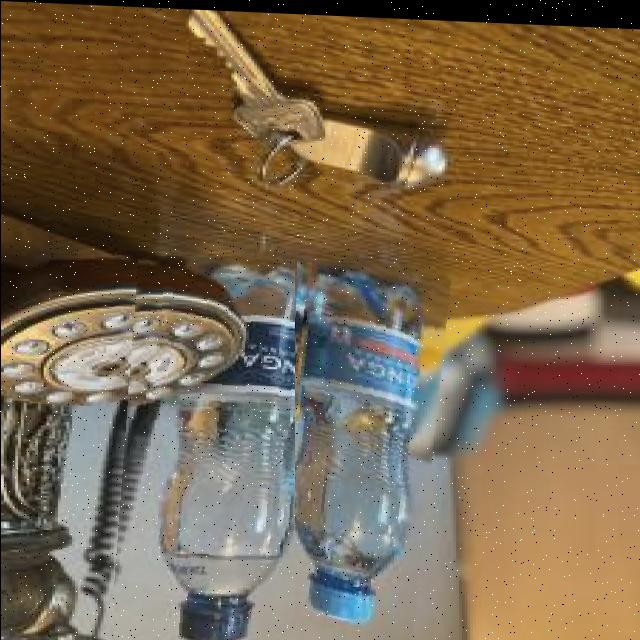plasticbottle: (109, 248, 294, 640), (259, 255, 441, 640)
plasticbottlecap: (276, 550, 430, 640), (142, 563, 282, 640)
